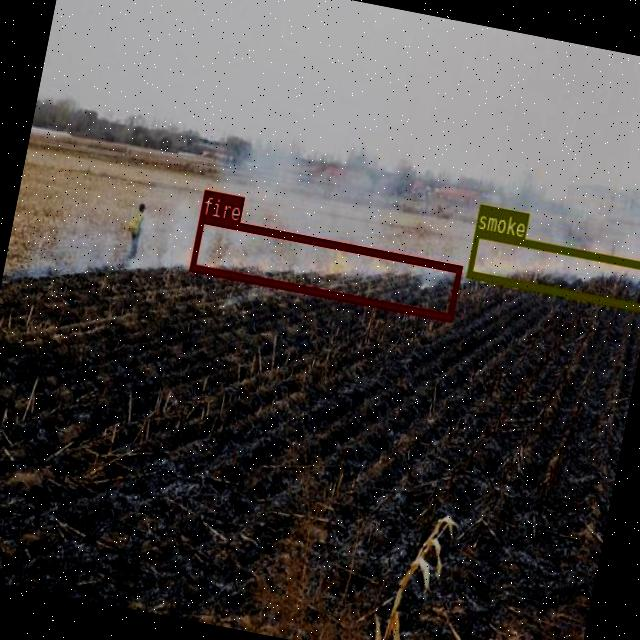fire: (189, 213, 462, 320)
smoke: (466, 228, 640, 312)
